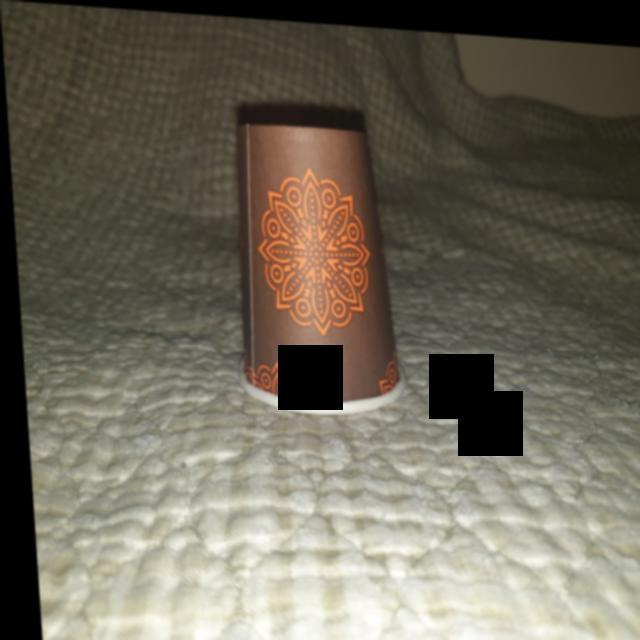cups: (223, 111, 403, 419)
